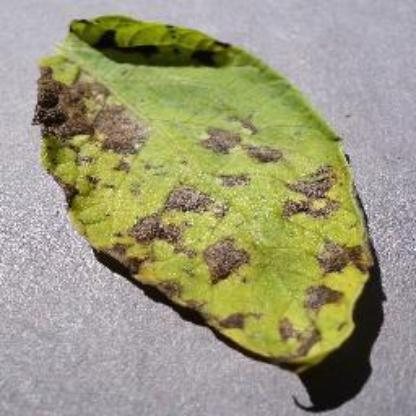Early-Blight: (31, 11, 385, 373)
